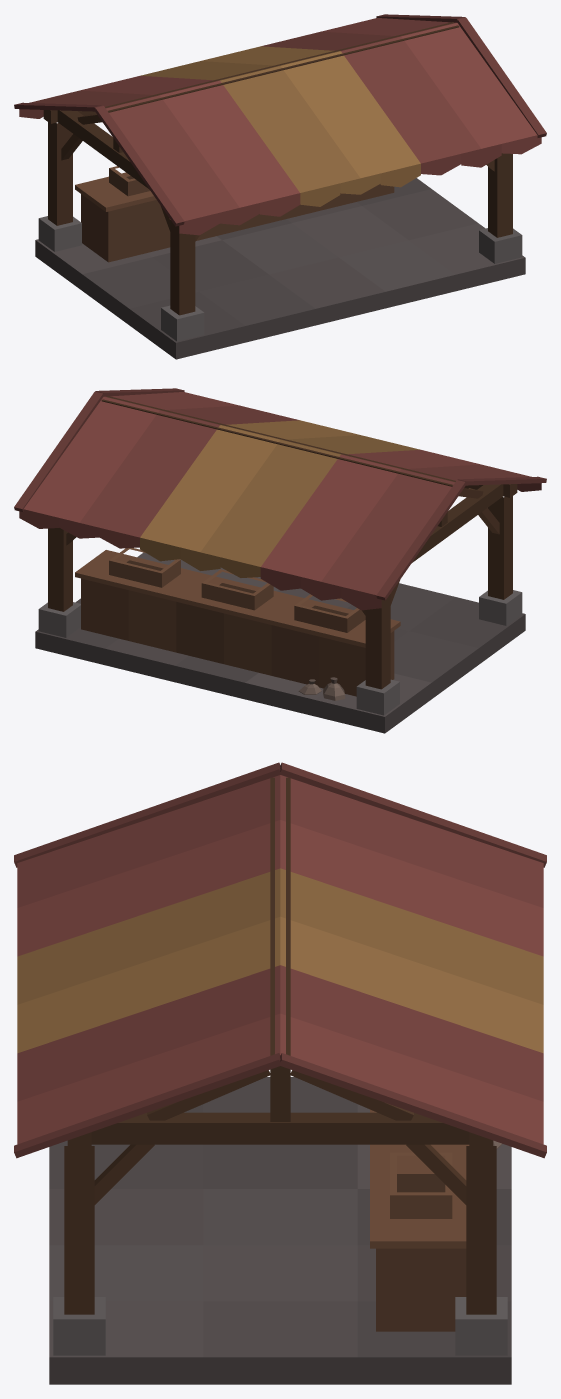
The model's file is market.glb.
3 renders of one model, top to bottom at view 1: azimuth 30°, elevation 25°; view 2: azimuth 150°, elevation 25°; view 3: azimuth 270°, elevation 25°, orthographic. The views are drawn at different scales.
Parts seen in each view (by area): view 1: lit; view 2: lit; view 3: lit.
Part boxes in pixels (left/top/right/bottom): lit: left=14, top=14, right=546, bottom=359; lit: left=14, top=388, right=546, bottom=733; lit: left=14, top=762, right=546, bottom=1384.
Bounding box in the file's own units: 7 × 3.66 × 5.31.
